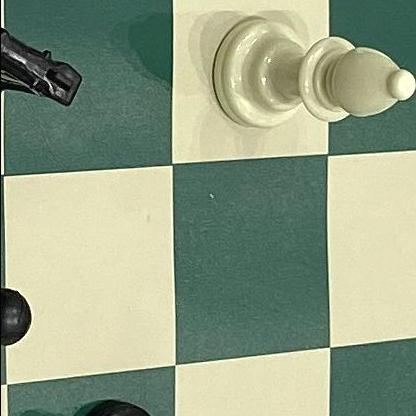black-knight: (0, 0, 91, 133)
black-pawn: (0, 231, 50, 367), (56, 385, 236, 416)
white-bishop: (199, 2, 416, 138)
